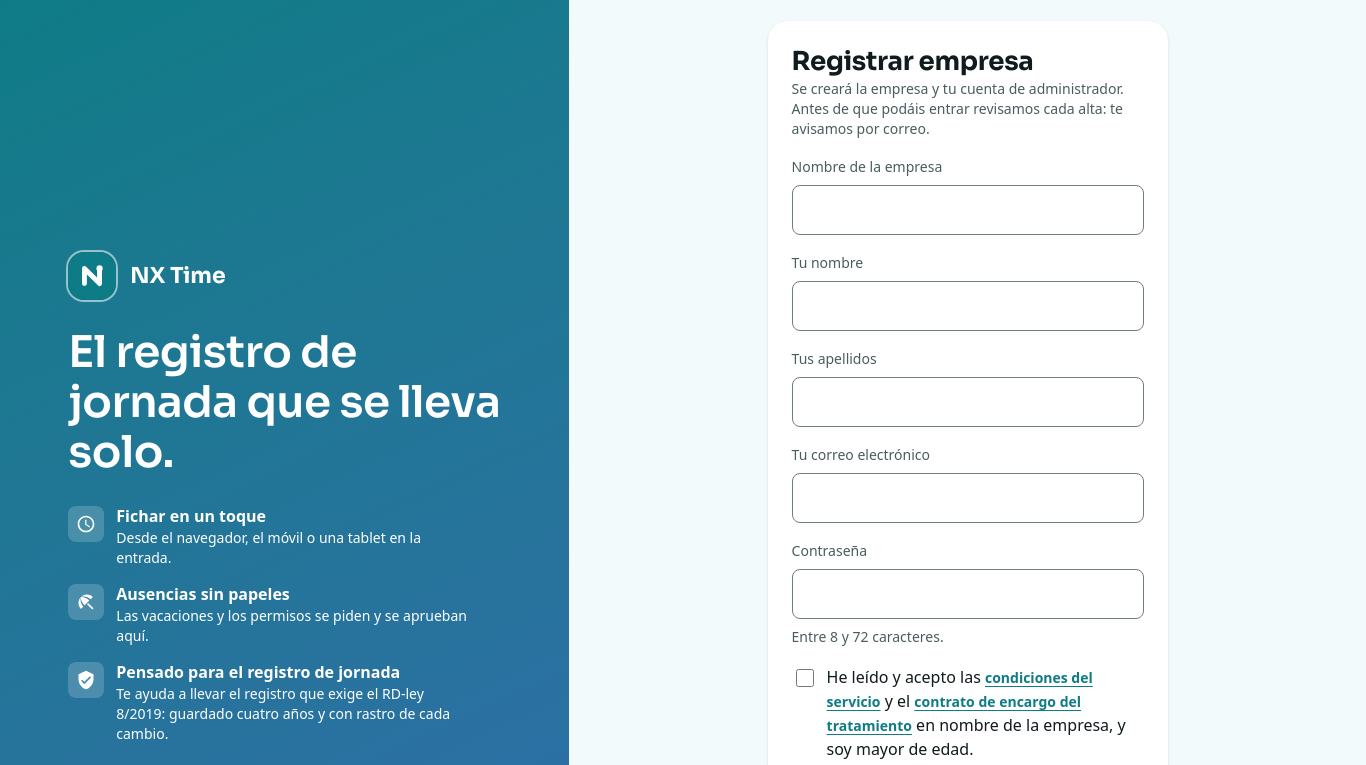
registrar una empresa › sin marcar la casilla de las condiciones no se manda nada (ADR 046)
Type "Talleres Eva SL" into the field labelled "Nombre de la empresa".
click(968, 210); type("Talleres Eva SL")  # box [792,185,1144,235]
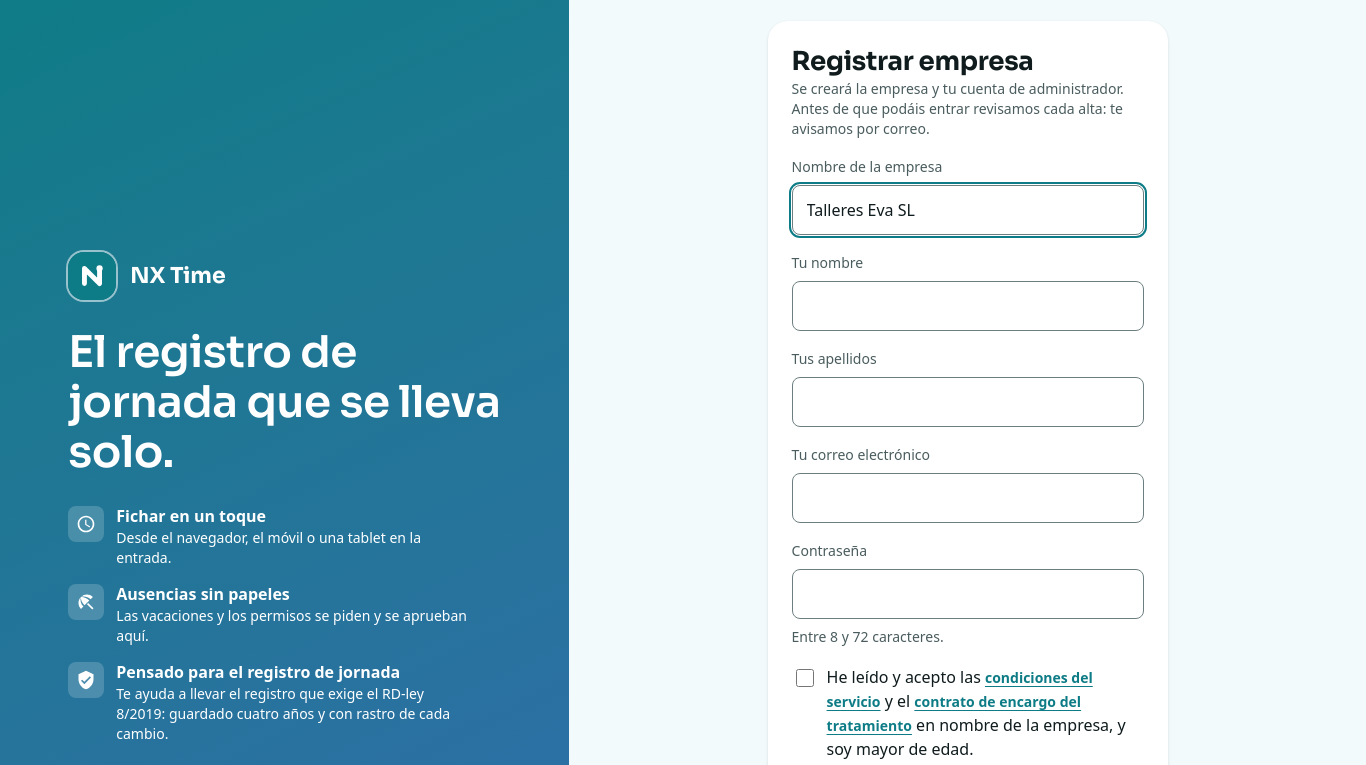
Type "Eva" into the field labelled "Tu nombre".
click(968, 306); type("Eva")  # box [792,281,1144,331]
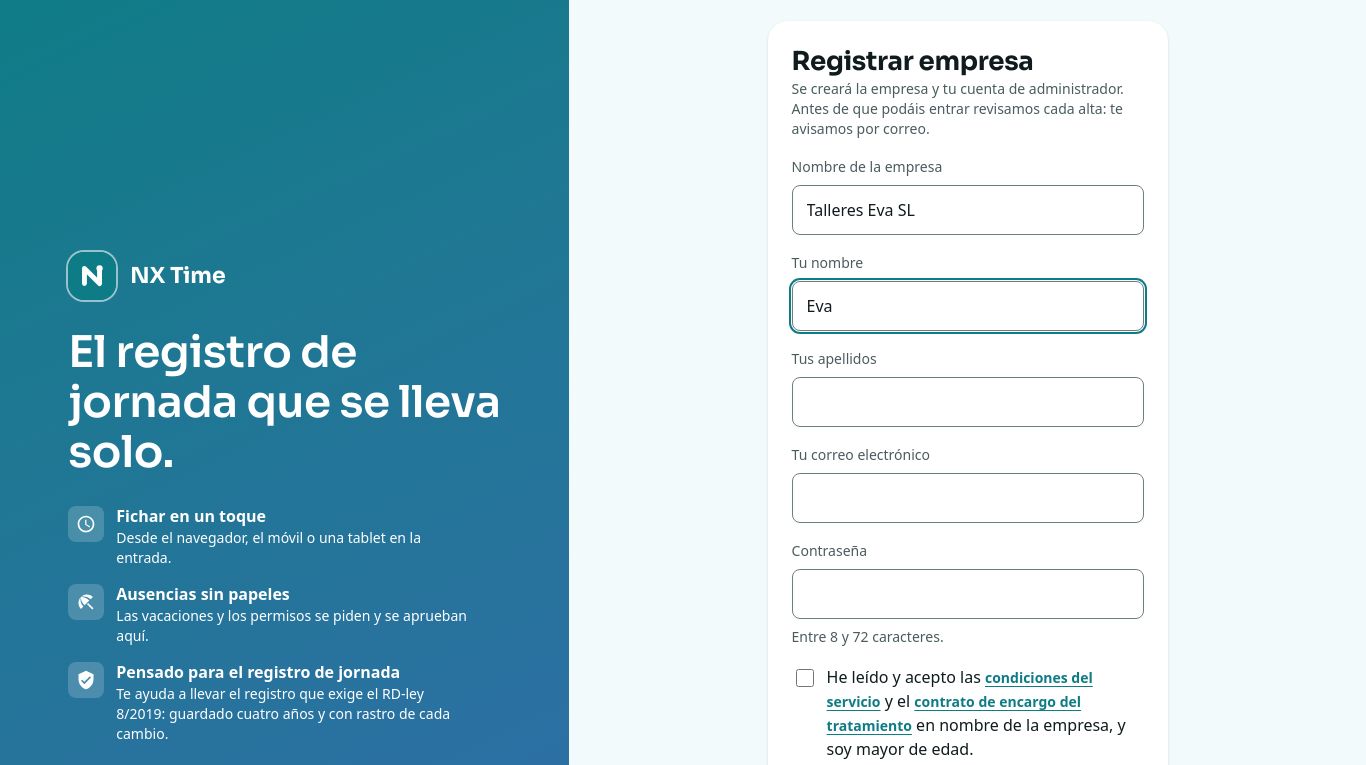
Type "Martín" into the field labelled "Tus apellidos".
click(968, 402); type("Martín")  # box [792,377,1144,427]
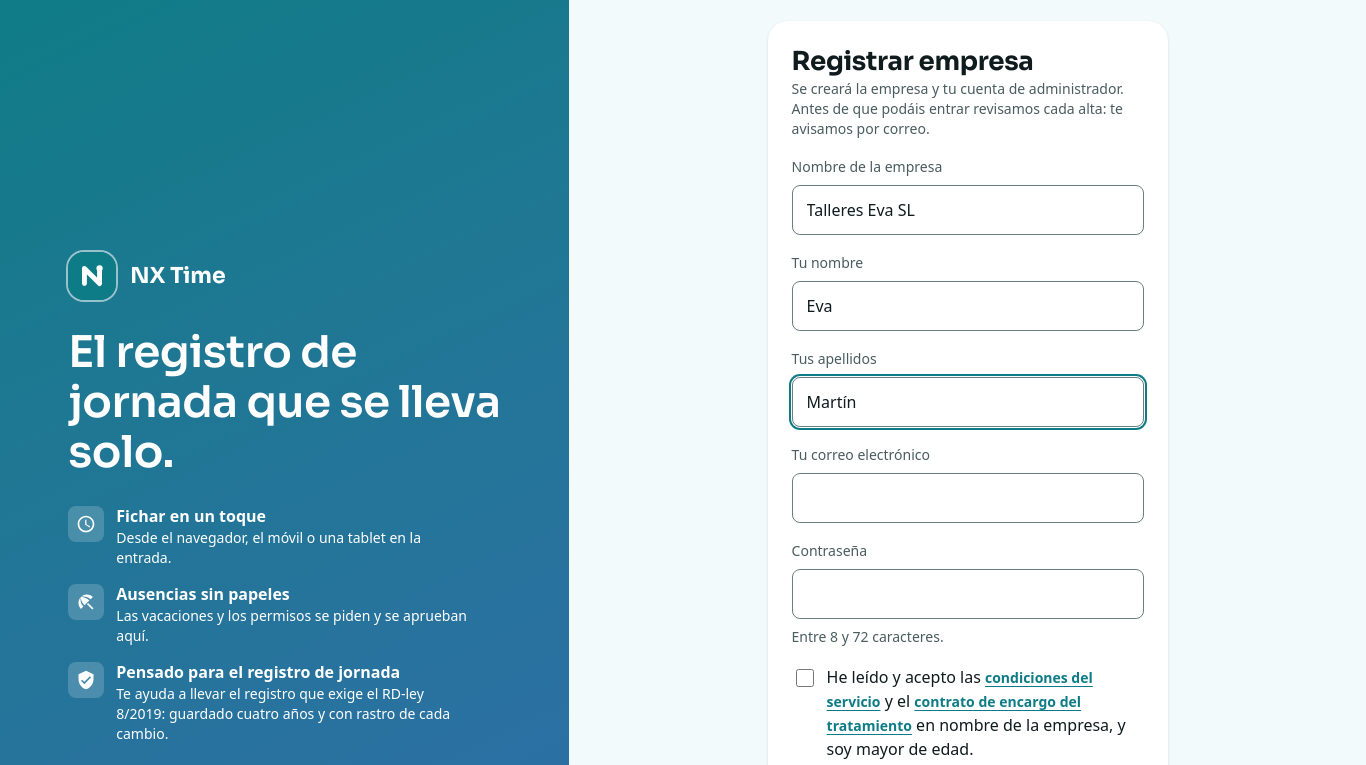
Type "eva@talleres.test" into the field labelled "Tu correo electrónico".
click(968, 498); type("eva@talleres.test")  # box [792,473,1144,523]
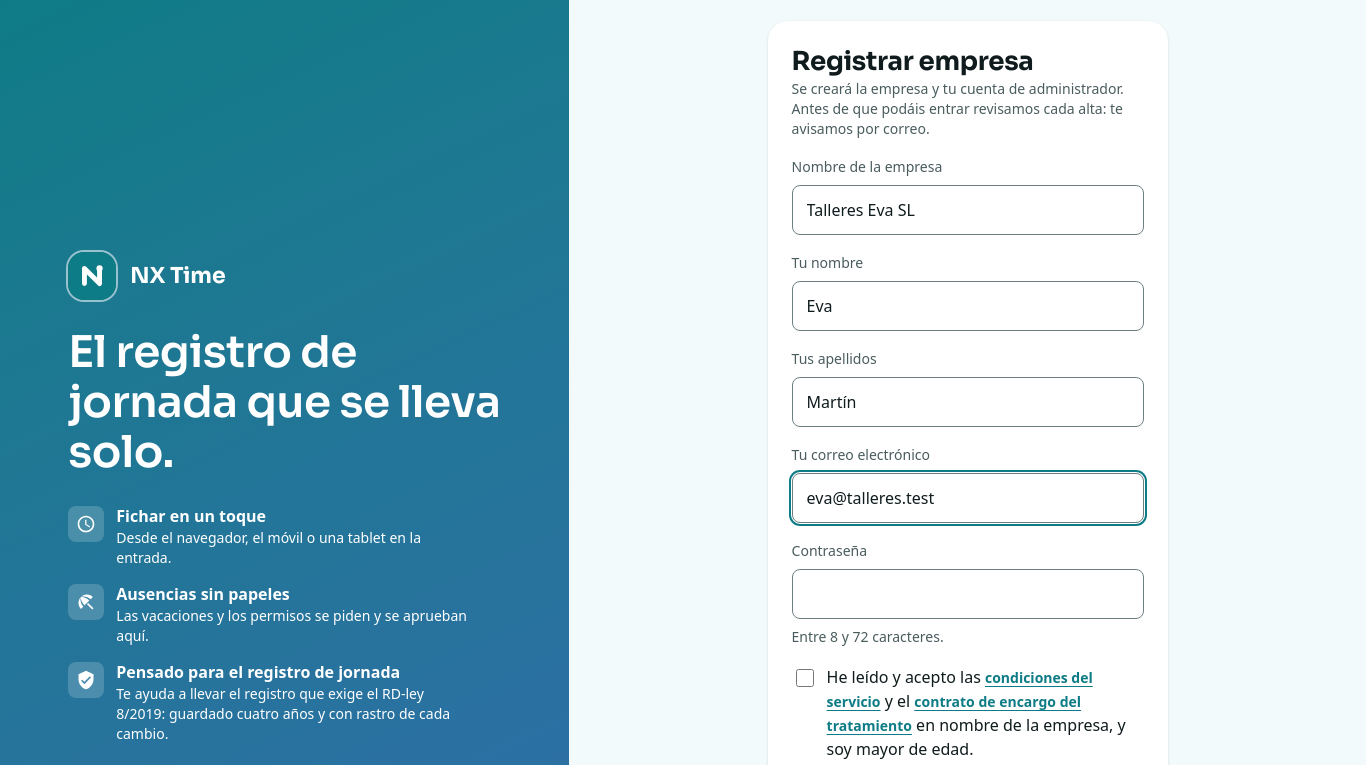
Type "unaBuena123" into the password field labelled "Contraseña".
click(968, 594); type("unaBuena123")  # box [792,569,1144,619]
(page scrolled)
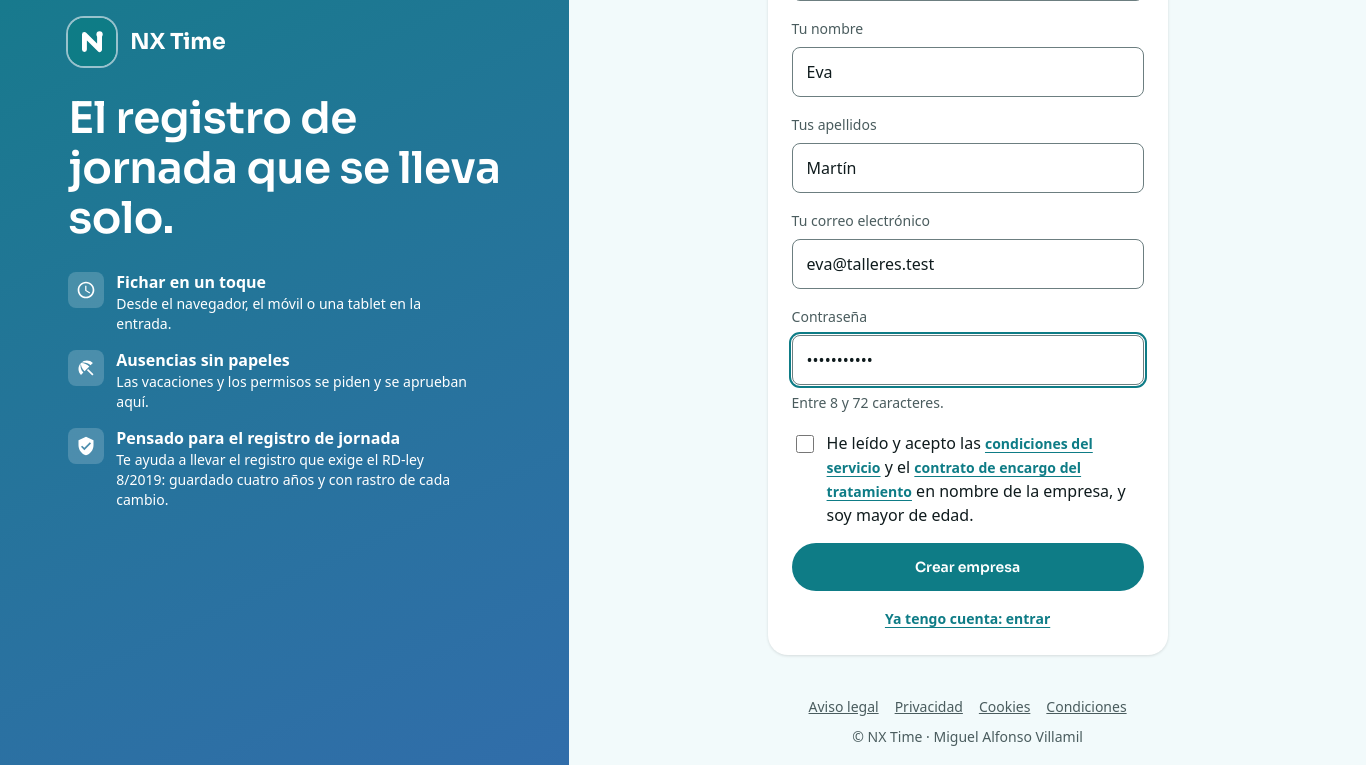
Click the button "Crear empresa".
click(968, 567)  # box [792,543,1144,591]
(page scrolled)
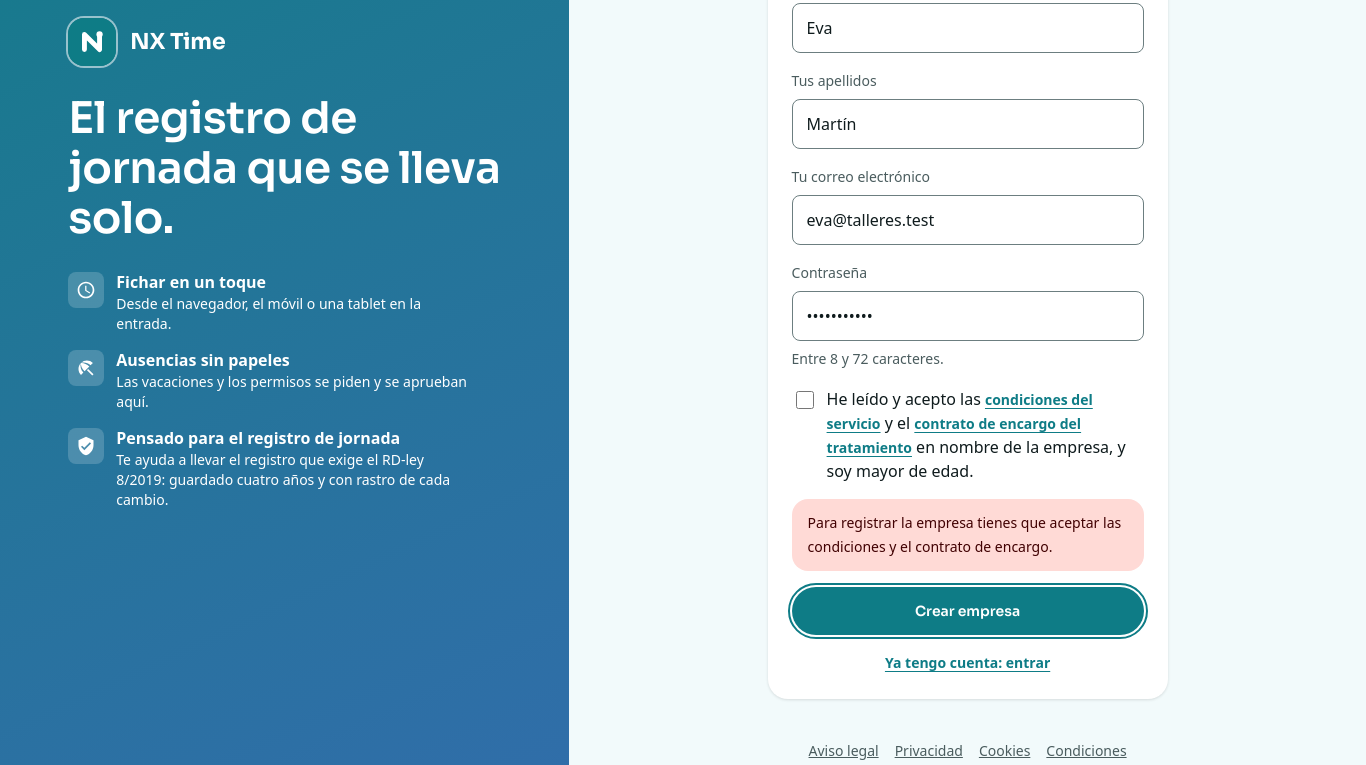
Result: the message shows "Para registrar la empresa tienes que aceptar las condiciones y el contrato de encargo." at [808,513,1121,556]
